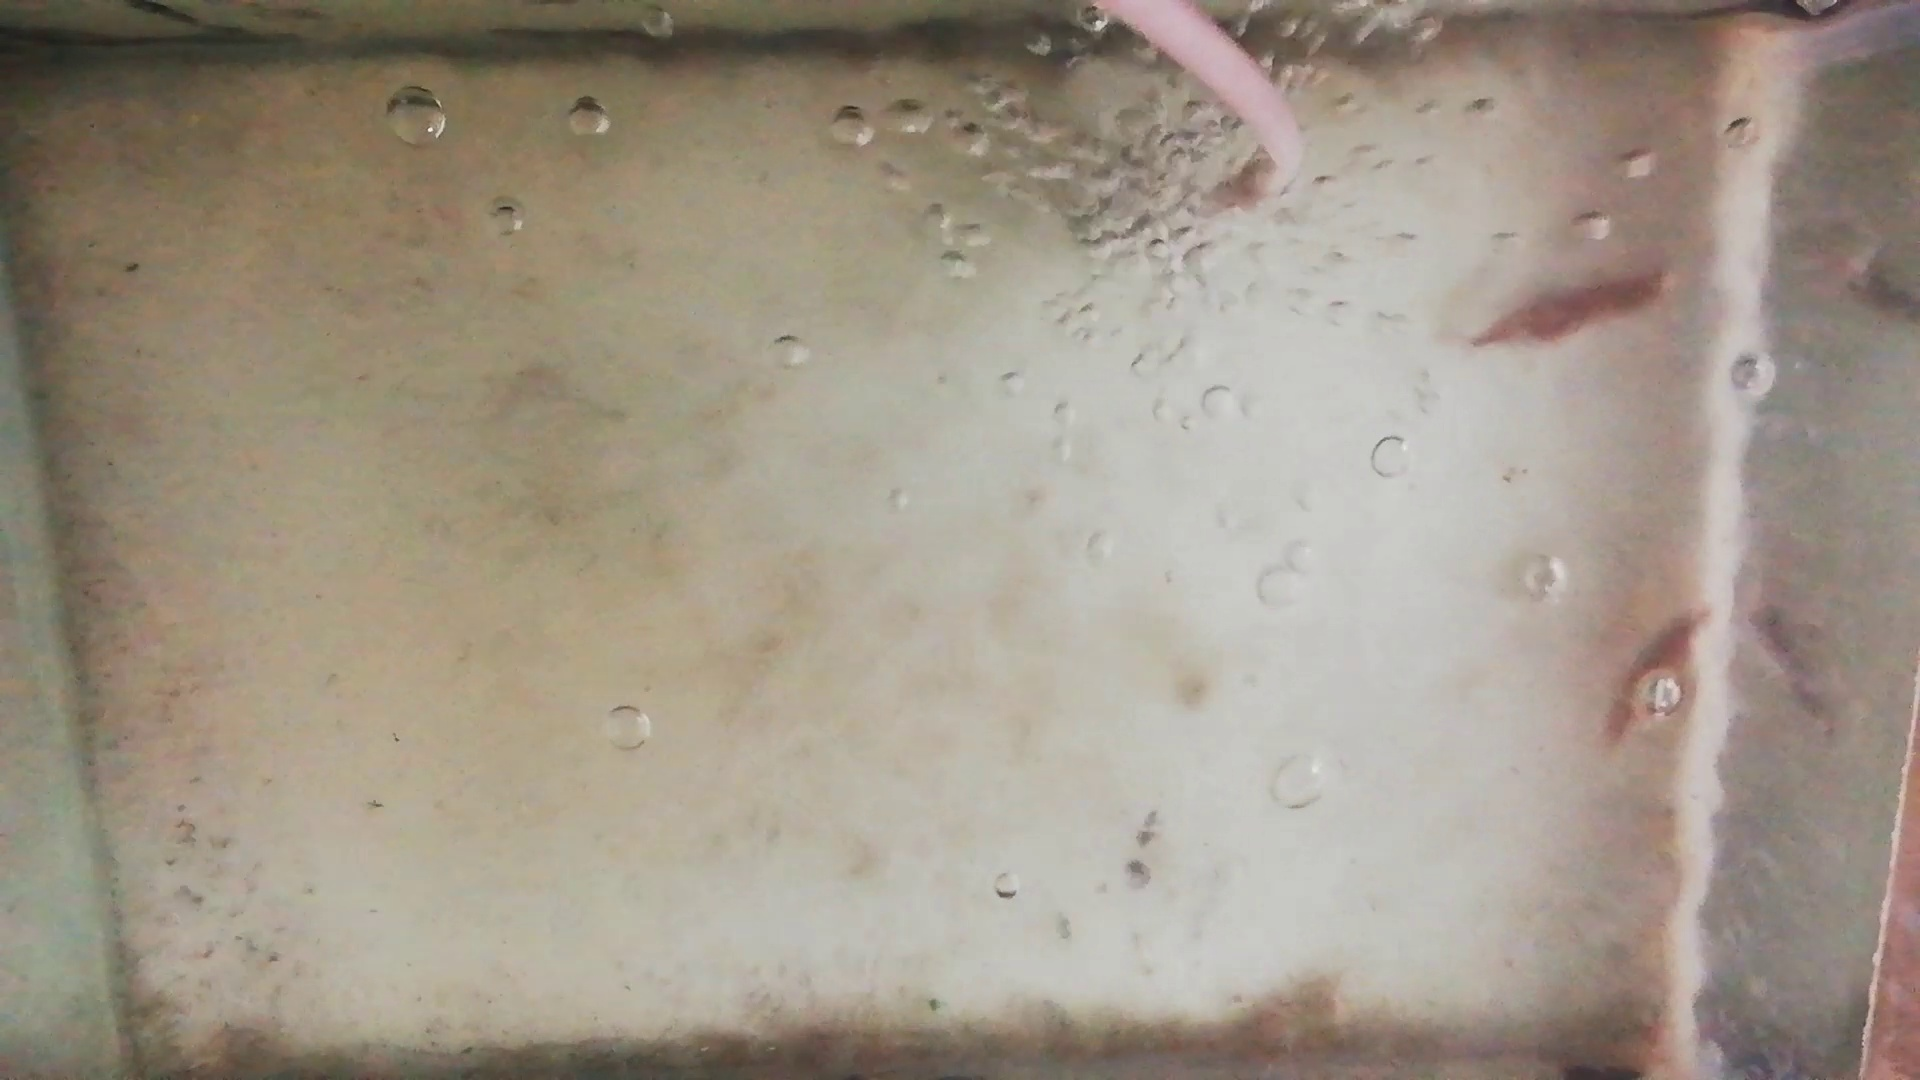fish: (1474, 264, 1672, 347), (1604, 609, 1709, 744)
